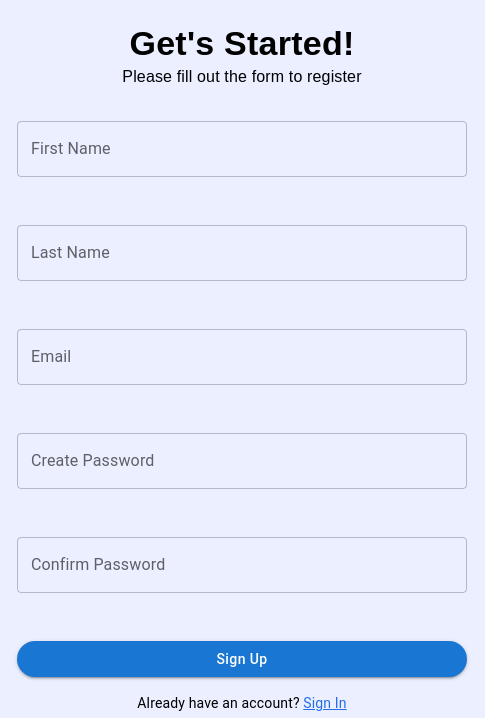
Scenario: SignUp › shows validation error for password mismatch
Type "password123" into the password field with test id "create-pwd" at (242, 461), box [17,433,467,489]
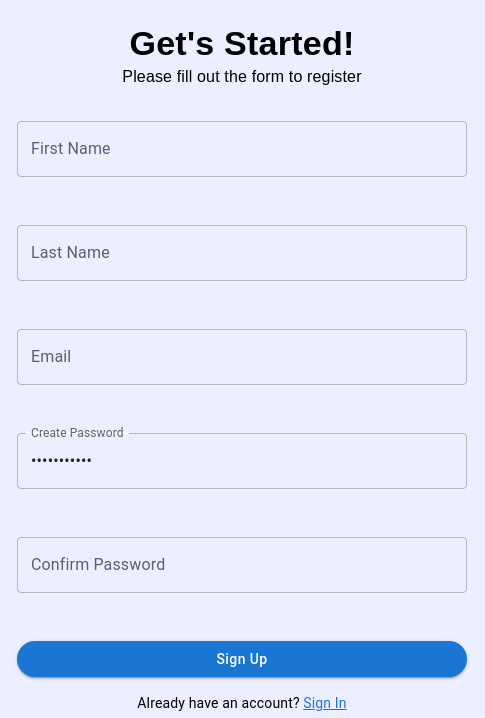
Type "differentpassword" into the password field with test id "confirm-pwd" at (242, 565), box [17,537,467,593]
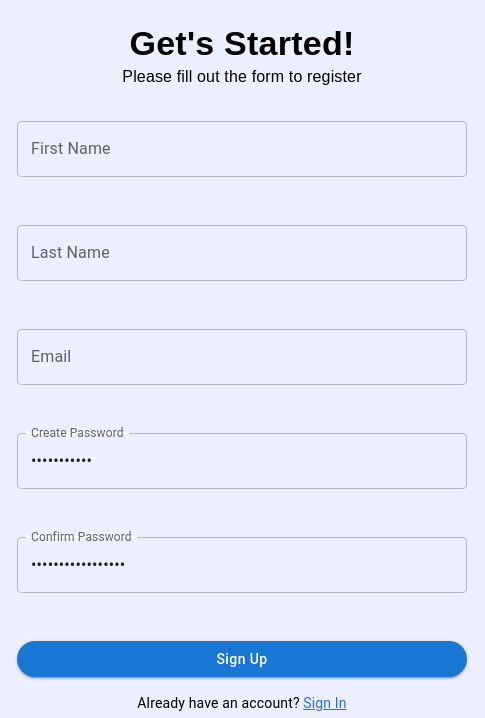
Click the button "Sign Up" at (242, 659), box [17,641,467,677]
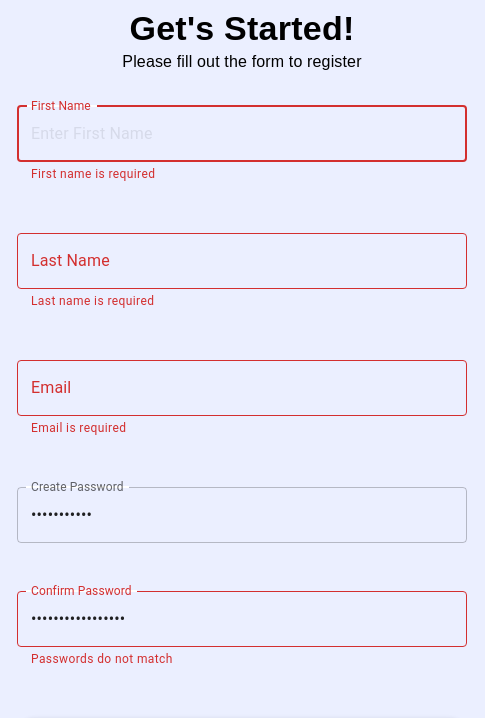
Now the text "Passwords do not match" is shown, box [31,652,173,666]
